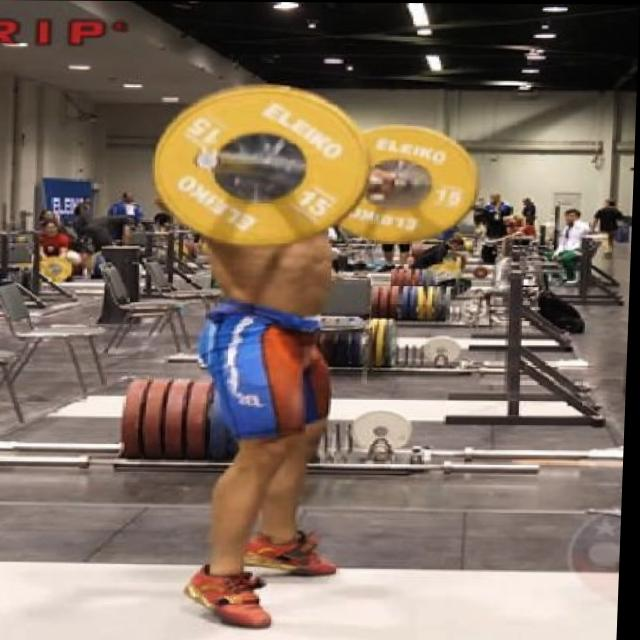barbell: (136, 79, 380, 258)
